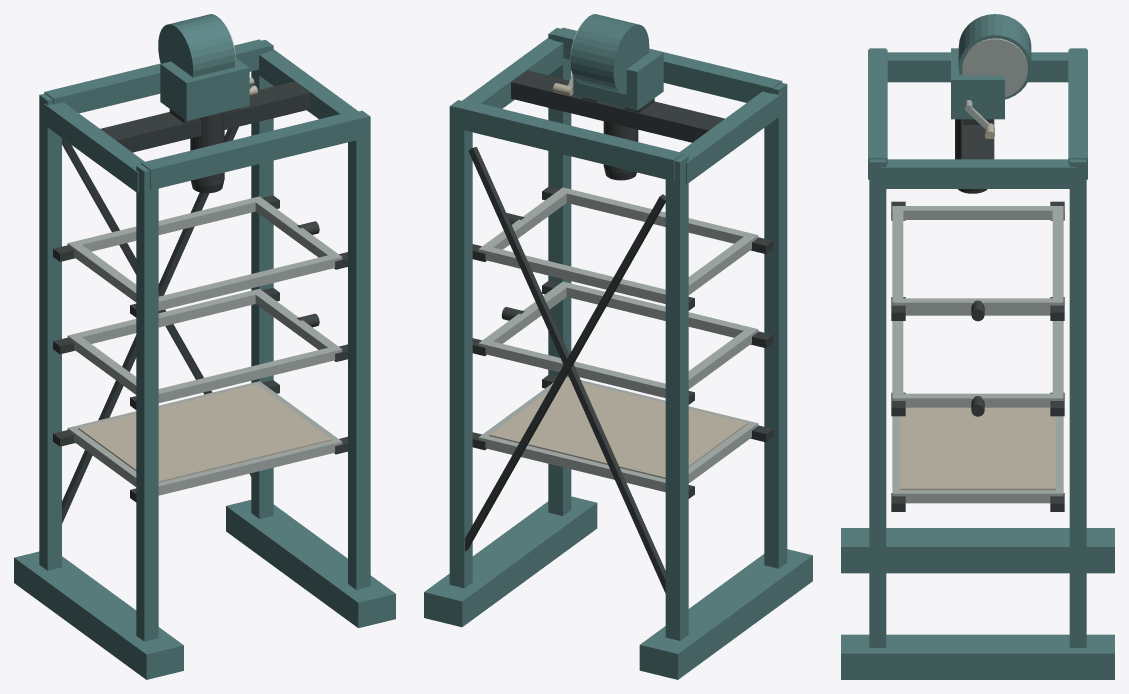
3 renders of one model, left to right at view 1: azimuth 30°, elevation 25°; view 2: azimuth 150°, elevation 25°; view 3: azimuth 270°, elevation 25°, orthographic. The views are drawn at different scales.
Visible parts, largest first — view 1: WholeBlankOpaqueLowestArtBoard, WholeTallPost_-1_-1, WholeTallPost_1_-1, WholeTallPost_-1_1, WholeGroundFootRunner_-1, WholeGroundFootRunner_1, WholeOpenPlaneCarrier_1, WholeOpenPlaneCarrier_2, WholeUpperCrossHeader_-1, WholeTallPost_1_1, WholeUpperCameraBridge, WholeOpenPlaneCarrier_0 (+8 smaller); view 2: WholeTallPost_-1_1, WholeBlankOpaqueLowestArtBoard, WholeTallPost_1_1, WholeTallPost_-1_-1, WholeGroundFootRunner_1, WholeGroundFootRunner_-1, WholeOpenPlaneCarrier_1, WholeOpenPlaneCarrier_2, WholeUpperCrossHeader_1, WholeUpperCameraBridge, WholeTallPost_1_-1, WholeRearDiagonalBrace_-1 (+8 smaller); view 3: WholeBlankOpaqueLowestArtBoard, WholeGroundFootRunner_1, WholeGroundFootRunner_-1, WholeTallPost_1_-1, WholeTallPost_1_1, WholeOpenPlaneCarrier_2, WholeUpperLongHeader_1, WholeOpenPlaneCarrier_1, WholeOpenPlaneCarrier_0, WholeUpperLongHeader_-1, WholeDownwardCameraDriveHousing, WholeProudMagazineLid (+4 smaller).
Part boxes in pixels (x1,y1,x2,y2): WholeBlankOpaqueLowestArtBoard: (78, 384, 331, 482); WholeTallPost_-1_-1: (136, 164, 158, 641); WholeTallPost_1_-1: (348, 110, 370, 589); WholeTallPost_-1_1: (39, 93, 61, 570); WholeGroundFootRunner_-1: (14, 551, 183, 679); WholeGroundFootRunner_1: (226, 500, 395, 628); WholeOpenPlaneCarrier_1: (67, 288, 342, 403); WholeOpenPlaneCarrier_2: (67, 196, 342, 310); WholeUpperCrossHeader_-1: (141, 110, 365, 190); WholeTallPost_1_1: (251, 39, 273, 518); WholeUpperCameraBridge: (100, 81, 310, 152); WholeOpenPlaneCarrier_0: (67, 381, 342, 495); WholeTallPost_-1_1: (665, 155, 688, 640); WholeBlankOpaqueLowestArtBoard: (489, 378, 747, 478); WholeTallPost_1_1: (449, 100, 472, 588); WholeTallPost_-1_-1: (764, 82, 787, 568); WholeGroundFootRunner_1: (424, 496, 597, 627); WholeGroundFootRunner_-1: (639, 549, 812, 679); WholeOpenPlaneCarrier_1: (478, 281, 758, 397); WholeOpenPlaneCarrier_2: (478, 187, 758, 303); WholeUpperCrossHeader_1: (454, 99, 683, 181); WholeUpperCameraBridge: (511, 70, 724, 142); WholeTallPost_1_-1: (548, 28, 571, 515); WholeRearDiagonalBrace_-1: (468, 147, 665, 593); WholeBlankOpaqueLowestArtBoard: (900, 407, 1055, 490); WholeGroundFootRunner_1: (841, 634, 1114, 679); WholeGroundFootRunner_-1: (841, 528, 1114, 573); WholeTallPost_1_-1: (869, 159, 886, 647); WholeTallPost_1_1: (1069, 159, 1086, 647); WholeOpenPlaneCarrier_2: (892, 206, 1063, 312); WholeUpperLongHeader_1: (881, 159, 1074, 188); WholeOpenPlaneCarrier_1: (892, 312, 1063, 407); WholeOpenPlaneCarrier_0: (892, 416, 1063, 503); WholeUpperLongHeader_-1: (887, 52, 1068, 82); WholeDownwardCameraDriveHousing: (951, 48, 1004, 119); WholeProudMagazineLid: (962, 38, 1027, 97).
Bounding box in the file's own units: 1.13 × 2.48 × 1.04.
